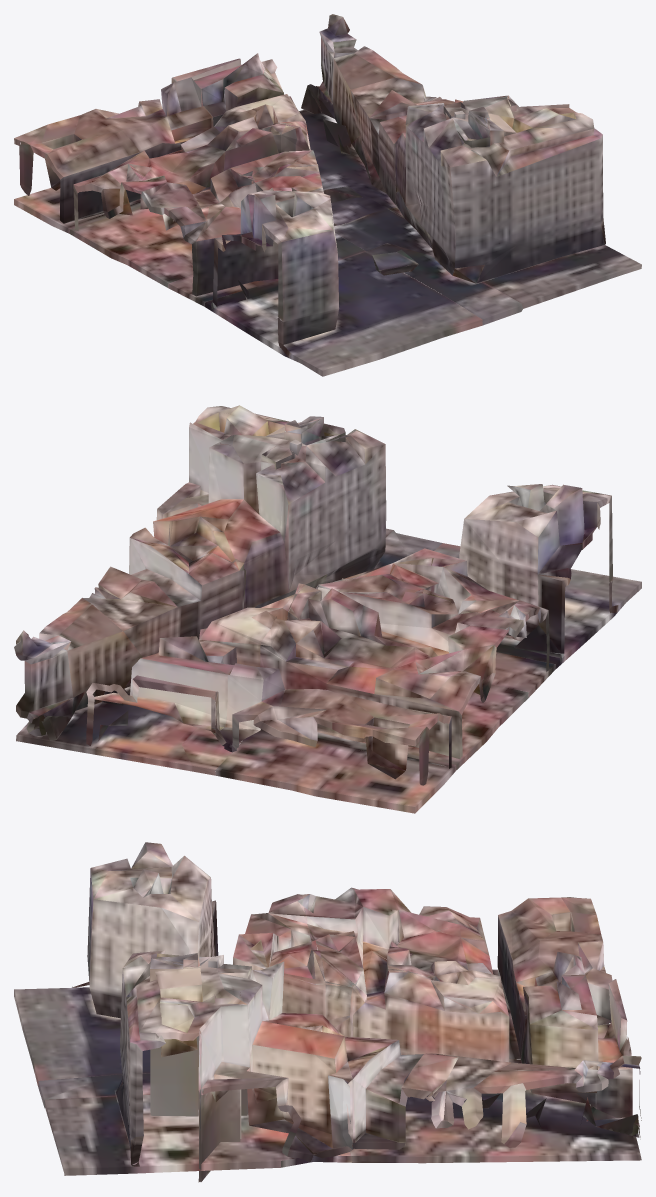
3 views of the same model, one above another, from view 1: azimuth 30°, elevation 25°; view 2: azimuth 150°, elevation 25°; view 3: azimuth 270°, elevation 25° (orthographic). The views are drawn at different scales.
Visible parts, largest first — view 1: Mesh_0; view 2: Mesh_0; view 3: Mesh_0.
Part boxes in pixels (bbox=[...]): Mesh_0: bbox=[14, 14, 641, 376]; Mesh_0: bbox=[14, 405, 641, 813]; Mesh_0: bbox=[14, 842, 641, 1182].
Size of the model in its own units: 133 by 52.72 by 165.
1 material, 1 textured.
